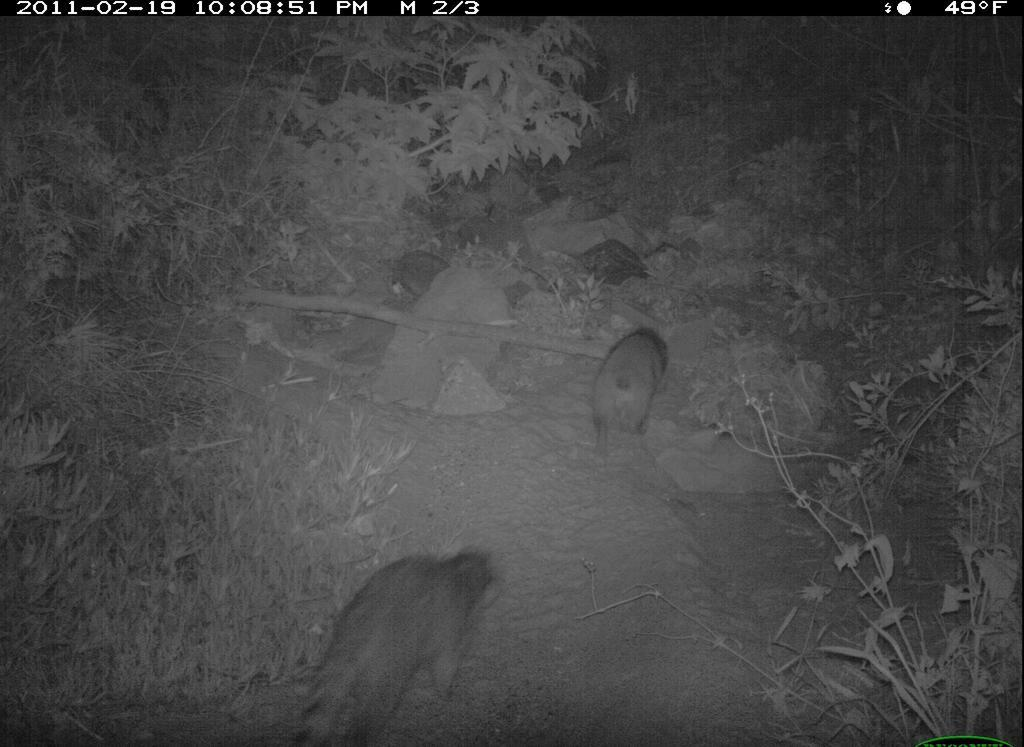raccoon: (295, 515, 547, 745), (573, 323, 690, 482)
